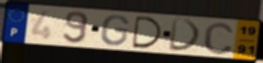4: (29, 9, 56, 42)
9: (62, 11, 89, 45)
C: (202, 21, 236, 56)
D: (168, 17, 204, 53), (131, 15, 165, 50)
G: (99, 14, 131, 47)
